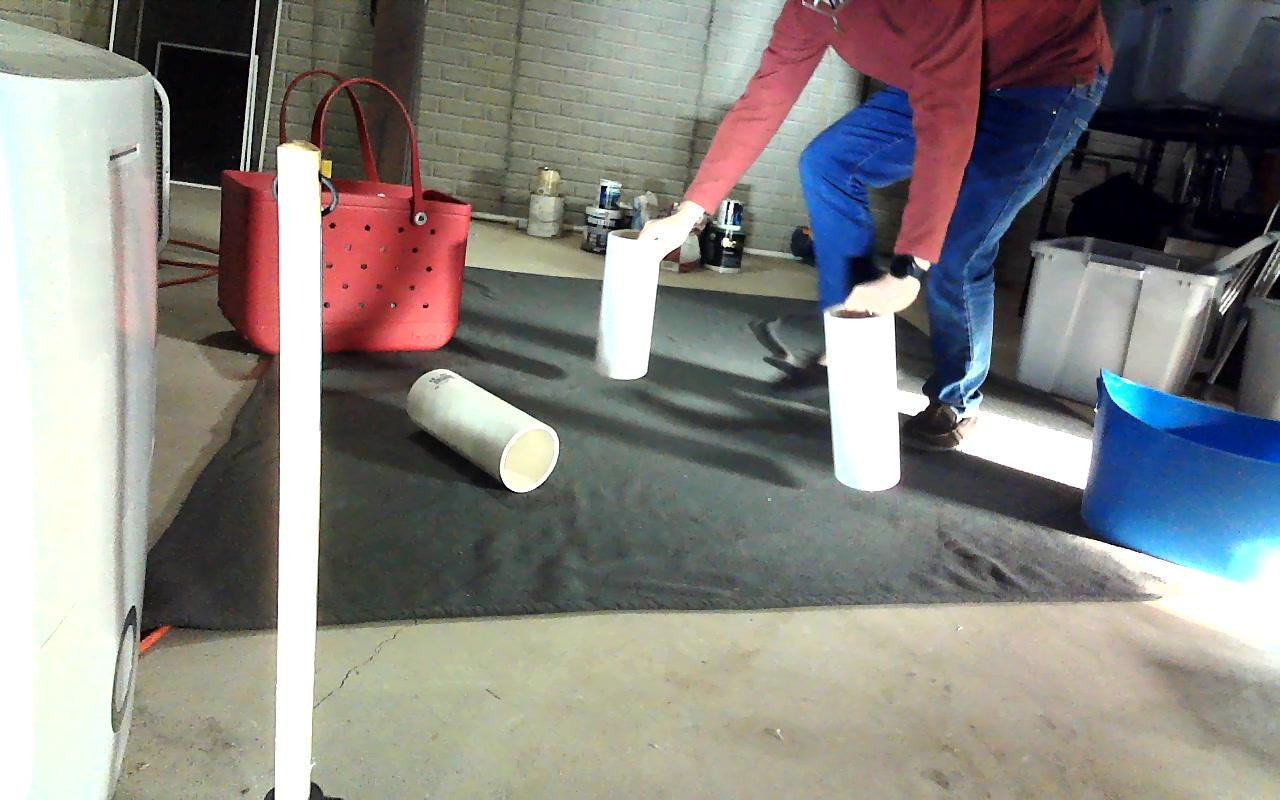coral: (407, 369, 559, 494), (823, 305, 901, 491), (595, 231, 660, 381)
